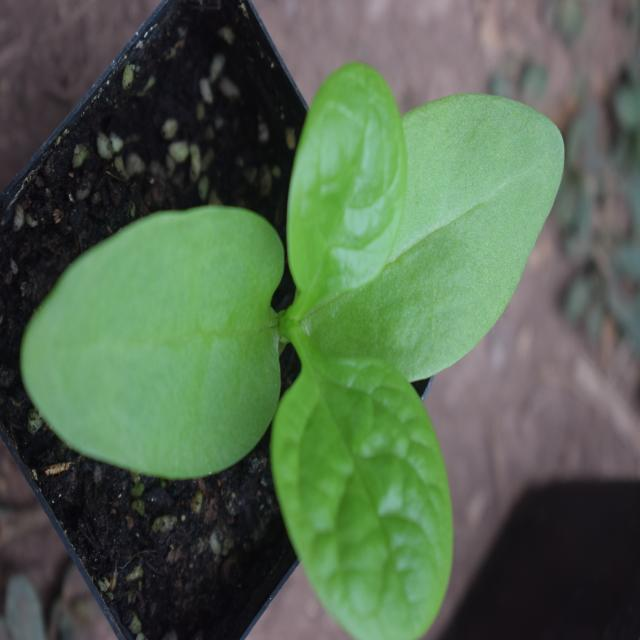Ceylon spinach: (74, 81, 541, 572)
